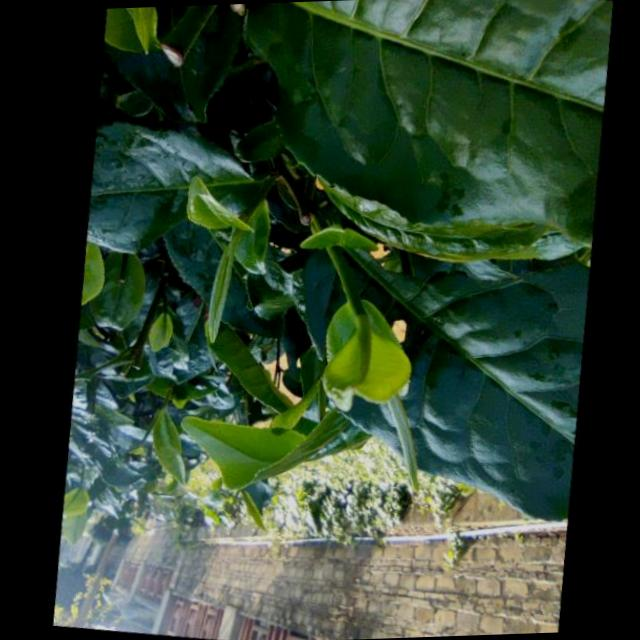Stem: (351, 303, 361, 312)
